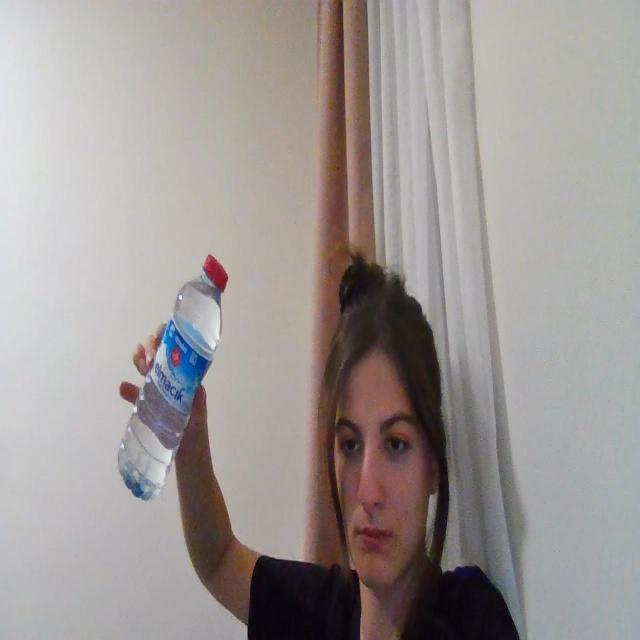bottle: (117, 249, 230, 503)
